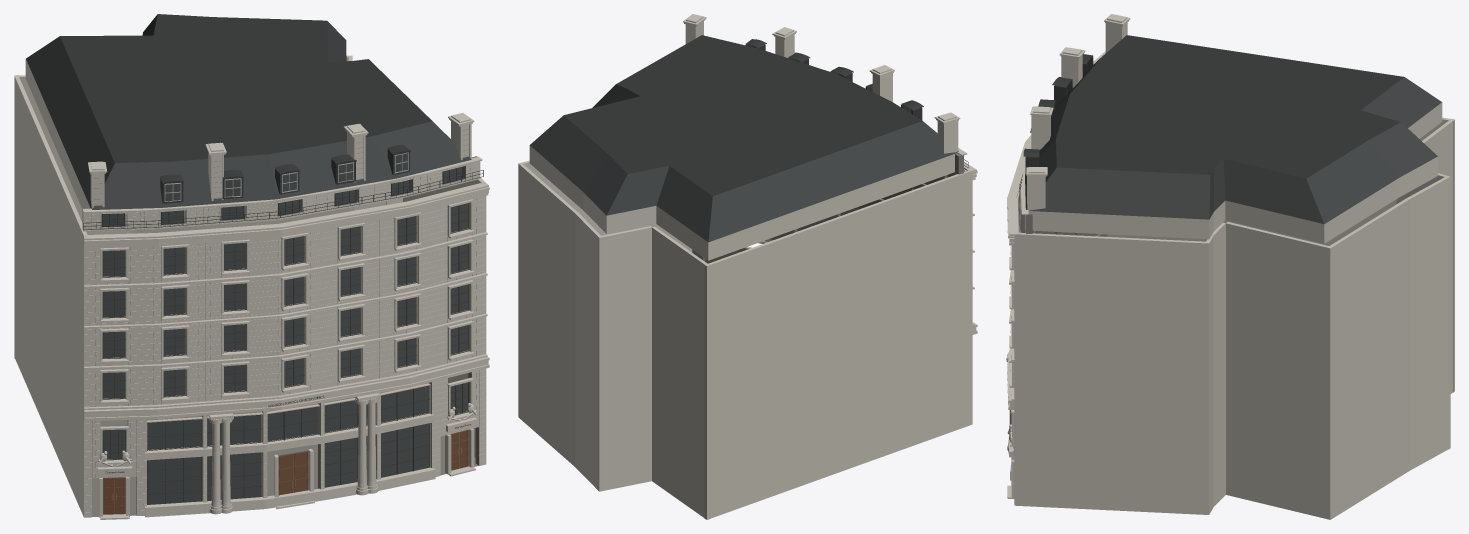
File: clm-exterior-aa475c98a88a.glb
3 views of the same model, side by side, from view 1: azimuth 30°, elevation 25°; view 2: azimuth 150°, elevation 25°; view 3: azimuth 270°, elevation 25° (orthographic). The views are drawn at different scales.
Visible parts, largest first — view 1: CLM.001; view 2: CLM.001; view 3: CLM.001.
Part boxes in pixels (x1,y1,x2,y2): CLM.001: (14, 14, 489, 519); CLM.001: (518, 14, 977, 519); CLM.001: (1006, 14, 1454, 519).
Size of the model in its own units: 33.04 by 28.79 by 34.23.
